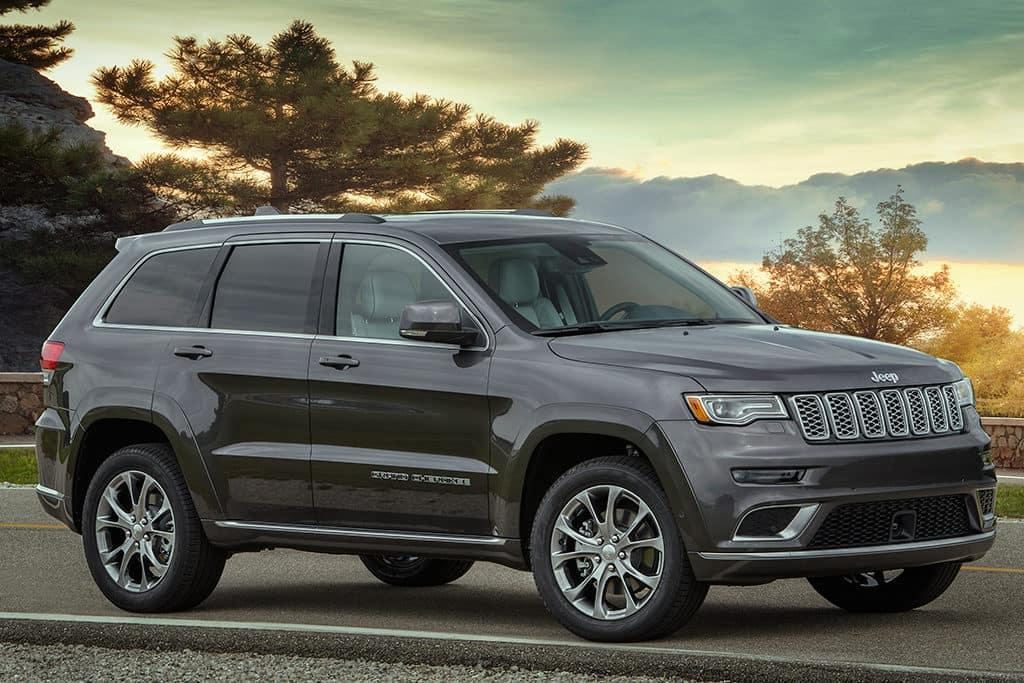car: (14, 213, 1000, 639)
